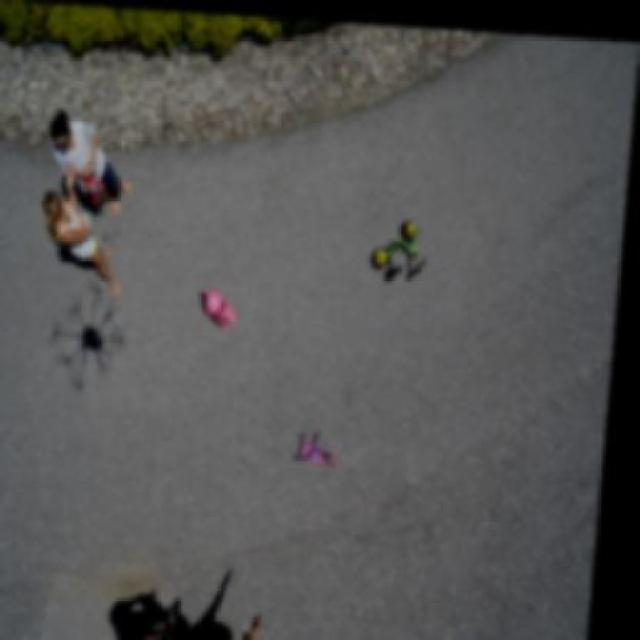Person: (40, 182, 135, 295), (47, 107, 141, 211)
